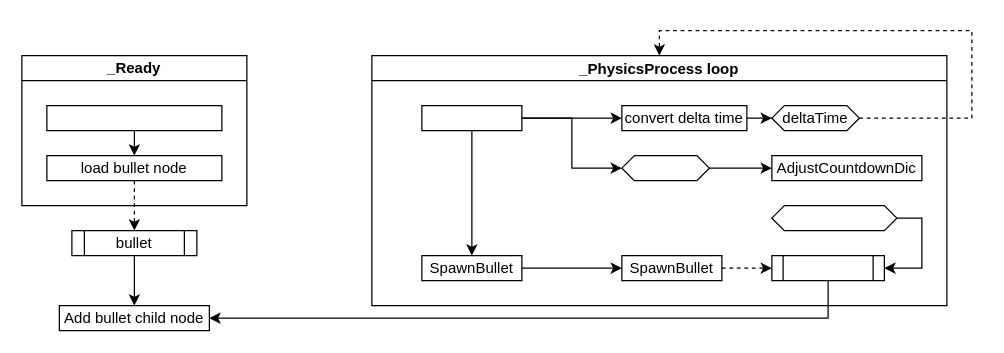
The diagram is 1004 pixels wide and 353 high, and some of its shapes have lost their labels. Here are the shapes that lost their labels. From the top down, the centre of each, then its label:
At (x=134, y=117): "Set cooldown Dictionary".
At (x=471, y=117): "InitialProcess".
At (x=665, y=167): "count dict".
At (x=834, y=217): "random radian".
At (x=827, y=267): "async Task".
